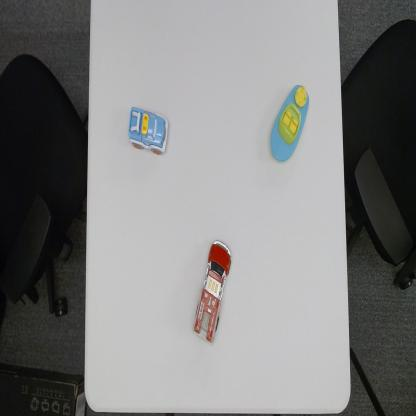Boat: (268, 81, 311, 165)
Car: (128, 104, 170, 156)
Firetruck: (191, 238, 235, 343)
